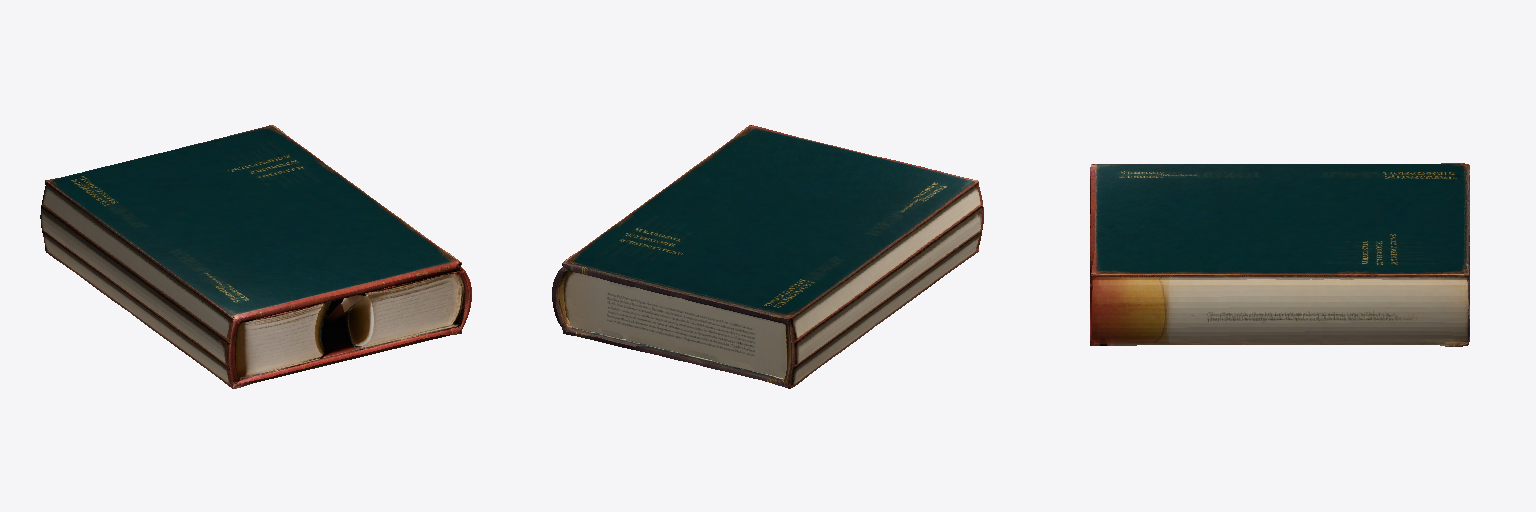
The picture shows the model from 3 angles: view 1: azimuth 30°, elevation 25°; view 2: azimuth 150°, elevation 25°; view 3: azimuth 270°, elevation 25°; orthographic projection.
Visible parts, largest first — view 1: book; view 2: book; view 3: book.
Part boxes in pixels (bbox=[...]): book: bbox=[40, 125, 471, 388]; book: bbox=[552, 125, 983, 388]; book: bbox=[1090, 163, 1469, 346].
Size of the model in its own units: 1.49 by 0.4189 by 2.
Materials: 1 (1 with a texture image).